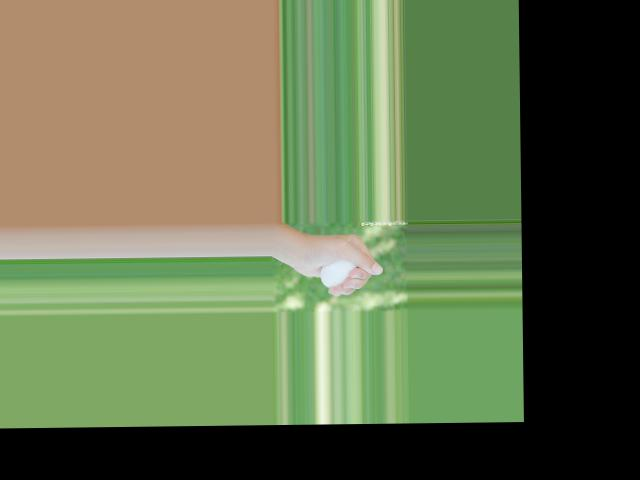egg: (320, 259, 357, 288)
